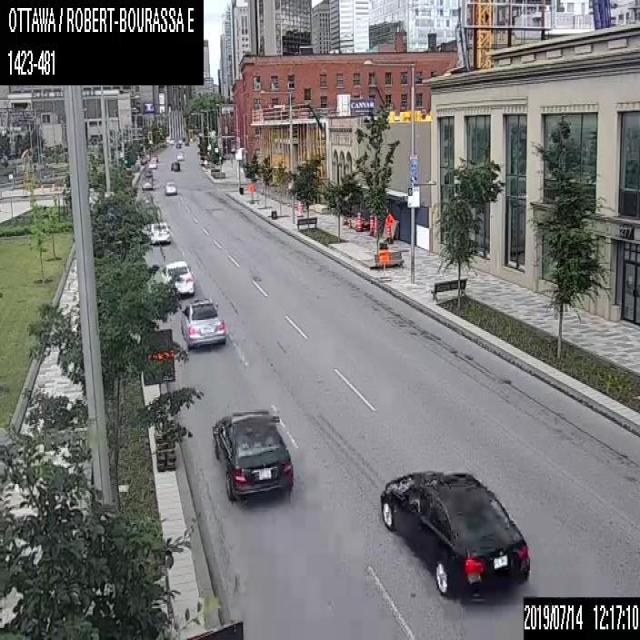construction: (140, 328, 175, 471), (383, 212, 391, 243), (368, 212, 376, 235), (295, 198, 303, 218), (377, 249, 388, 263), (354, 211, 361, 232), (247, 182, 254, 202)
vehicle: (378, 468, 531, 599), (209, 408, 293, 501), (180, 298, 225, 350), (164, 259, 194, 296), (148, 221, 170, 243), (164, 182, 176, 194), (142, 178, 151, 190), (148, 156, 156, 167), (170, 160, 179, 169), (143, 169, 152, 177), (176, 150, 183, 159), (184, 140, 188, 145), (176, 142, 180, 146)
